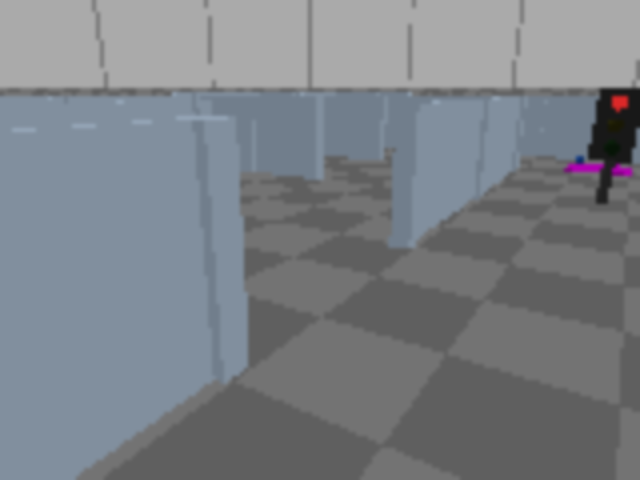goal_zone: (565, 162, 630, 176)
traffic_light: (580, 82, 638, 208)
